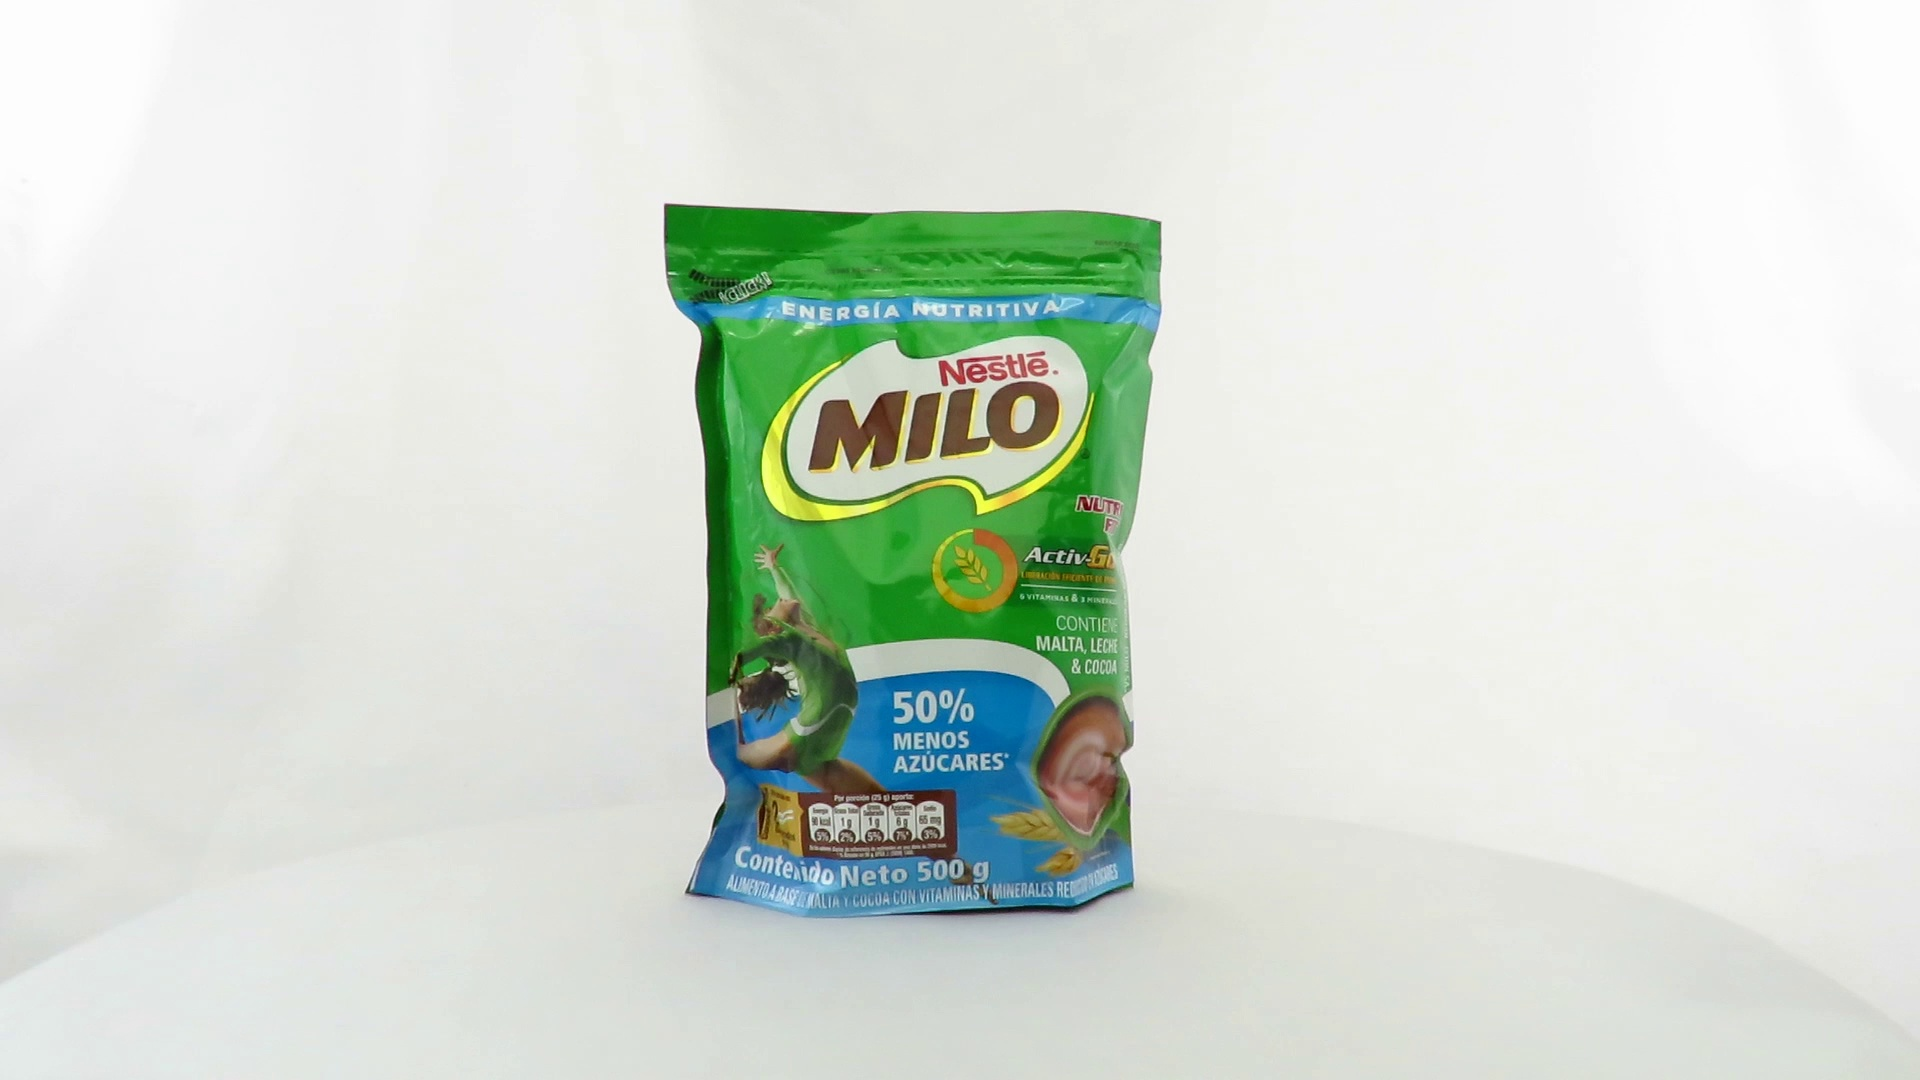COL0170205DYP50000: (659, 198, 1168, 924)
